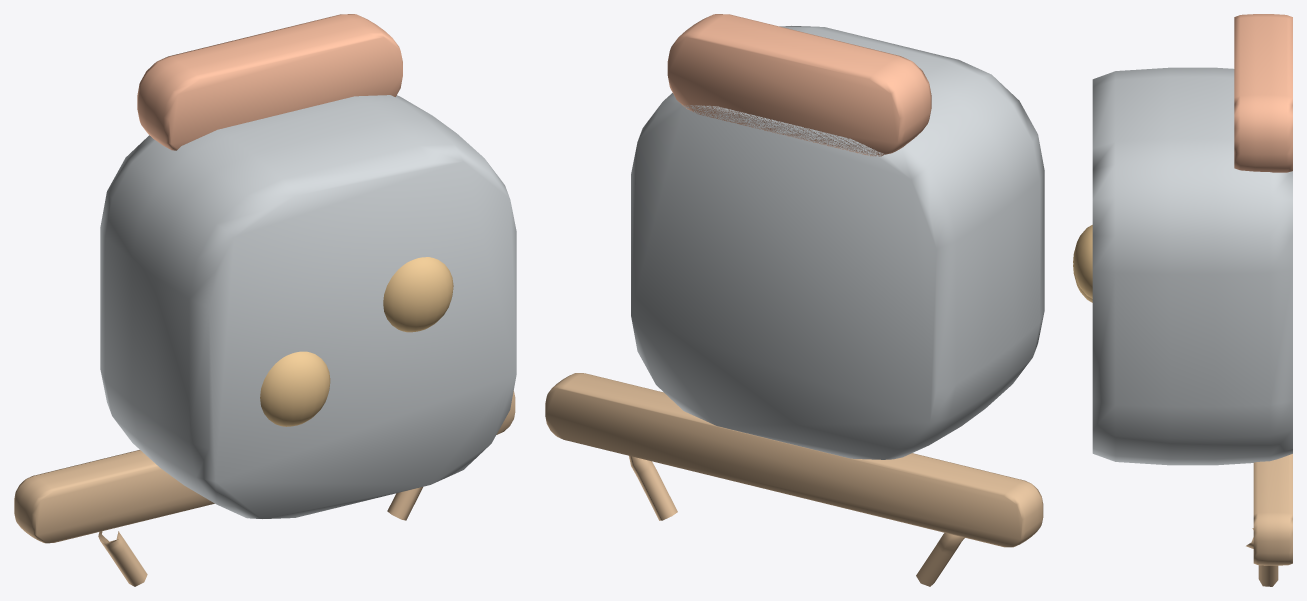
Rendered from decor_6_classic.glb.
3 renders of one model, left to right at view 1: azimuth 30°, elevation 25°; view 2: azimuth 150°, elevation 25°; view 3: azimuth 270°, elevation 25°, orthographic. The views are drawn at different scales.
Parts seen in each view (by area): view 1: decor_6_classic; view 2: decor_6_classic; view 3: decor_6_classic.
Boxes of the visible parts, left/top/right/bottom form: decor_6_classic: left=14, top=14, right=516, bottom=586; decor_6_classic: left=545, top=14, right=1044, bottom=586; decor_6_classic: left=1073, top=14, right=1292, bottom=586.
Bounding box in the file's own units: 7.86 × 7.92 × 3.36.
